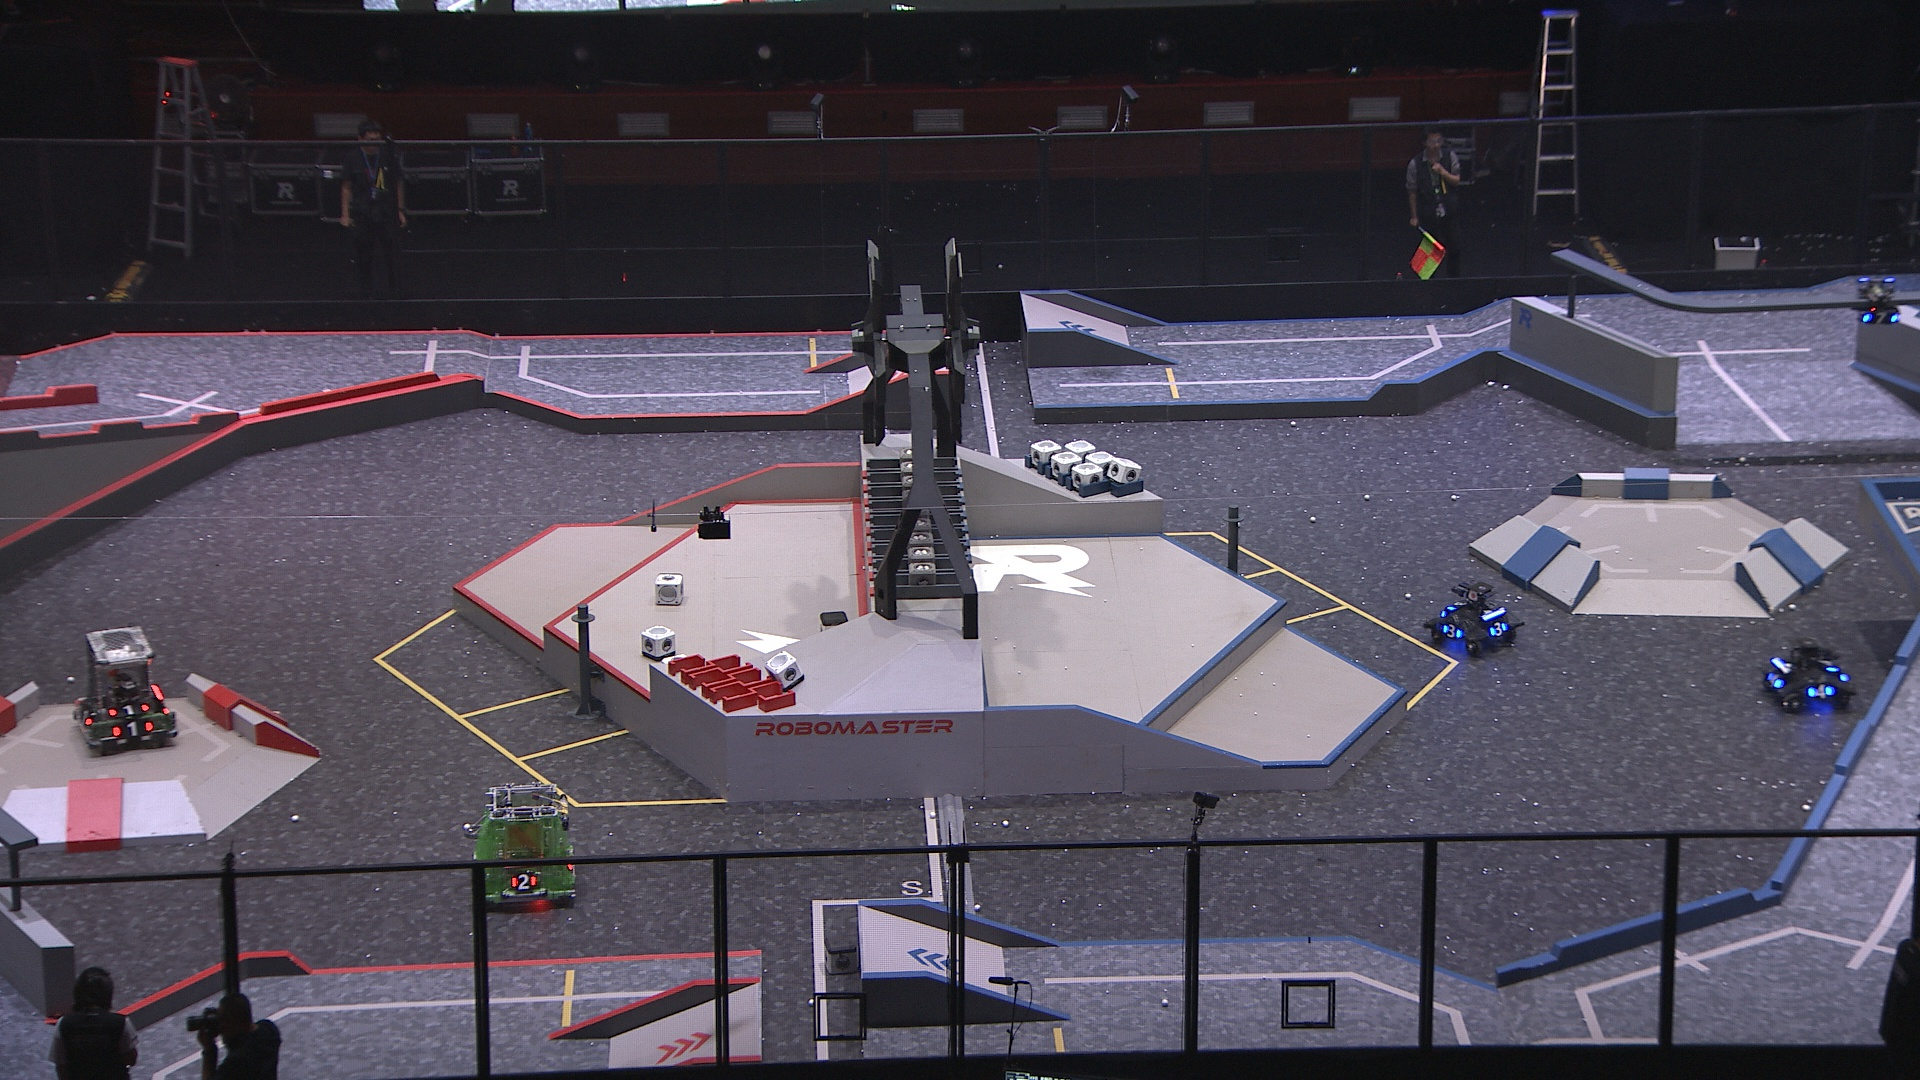armor: (111, 717, 156, 738), (105, 700, 149, 716), (1804, 680, 1836, 699), (509, 872, 537, 891), (1813, 655, 1840, 674), (1863, 311, 1898, 324), (1487, 618, 1510, 638), (1441, 621, 1462, 640), (76, 708, 94, 727), (1766, 671, 1784, 688), (1447, 597, 1466, 612)
car: (460, 778, 579, 911), (71, 622, 178, 752), (1423, 580, 1527, 659), (1762, 636, 1855, 716)
watcher: (1851, 276, 1903, 324)
